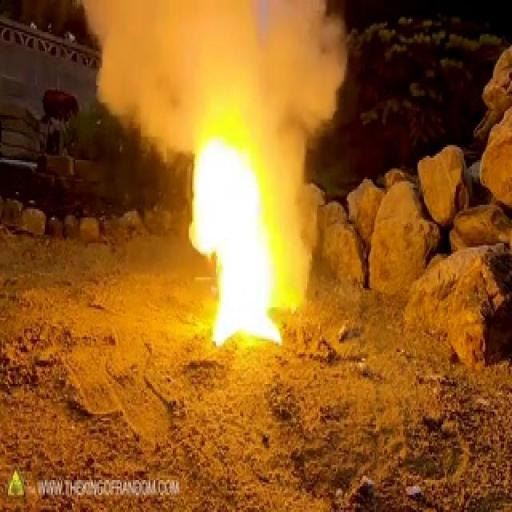smoke: (172, 104, 290, 353)
